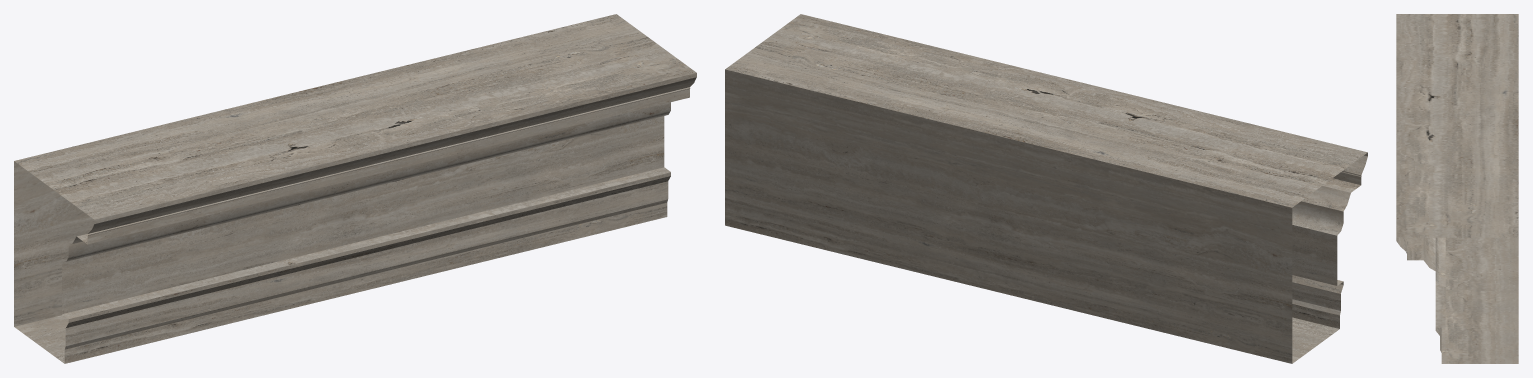
The model's file is Roof02_2.FBX.
The picture shows the model from 3 angles, left to right: view 1: azimuth 30°, elevation 25°; view 2: azimuth 150°, elevation 25°; view 3: azimuth 270°, elevation 25°; orthographic projection. The views are drawn at different scales.
Visible parts, largest first — view 1: Object007; view 2: Object007; view 3: Object007.
Boxes of the visible parts, box(x1,y1,x2,y2) form: Object007: box(14, 14, 696, 363); Object007: box(725, 14, 1367, 363); Object007: box(1396, 14, 1518, 363).
Bounding box in the file's own units: 1647 × 433 × 381.
